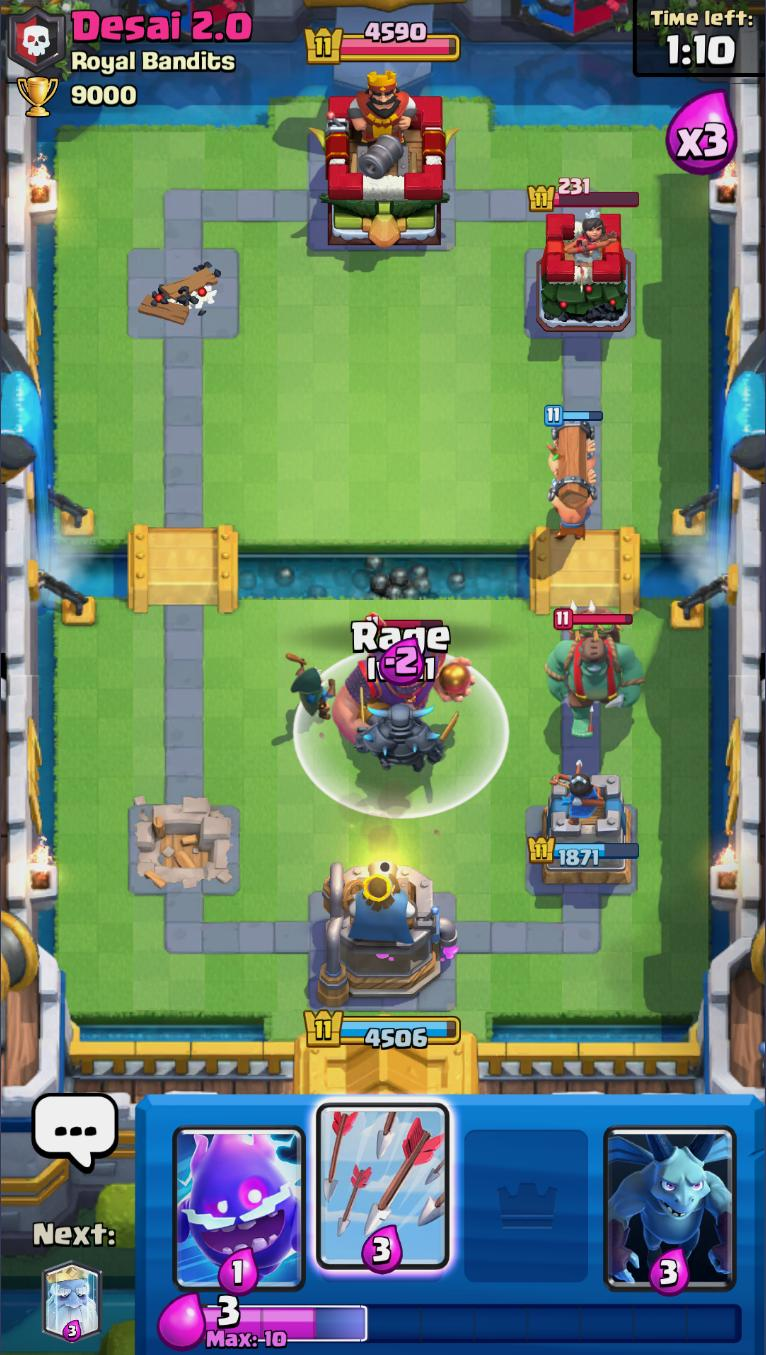ArrowDeck: (311, 1098, 454, 1300)
ElectroSpiritDeck: (169, 1094, 313, 1295)
Elixir: (202, 1297, 745, 1350)
EnemyTower: (536, 212, 634, 333)
EnemyTowerBrocken: (129, 245, 236, 336)
GoblinGiant: (542, 601, 644, 741)
KingTower: (308, 66, 462, 250)
KingTowerHP: (304, 22, 460, 65)
MinionsDeck: (601, 1097, 740, 1295)
MyBandit: (284, 651, 338, 720)
MyBattleRam: (542, 403, 607, 539)
MyKingHP: (304, 1007, 462, 1051)
MyKingTower: (317, 854, 459, 1008)
MyPekka: (357, 686, 458, 773)
MyPrincessTower: (529, 769, 640, 886)
MyPrincessTowerBrocken: (128, 796, 239, 896)
MyPrincessTowerHP: (528, 837, 640, 869)
PrincessTower: (550, 216, 607, 267)
RageDeck: (454, 1096, 600, 1297)
RoyaleGhostNext: (42, 1265, 104, 1342)
RoyaleGiant: (334, 614, 477, 745)
TowerPrincessHP: (529, 178, 641, 212)
